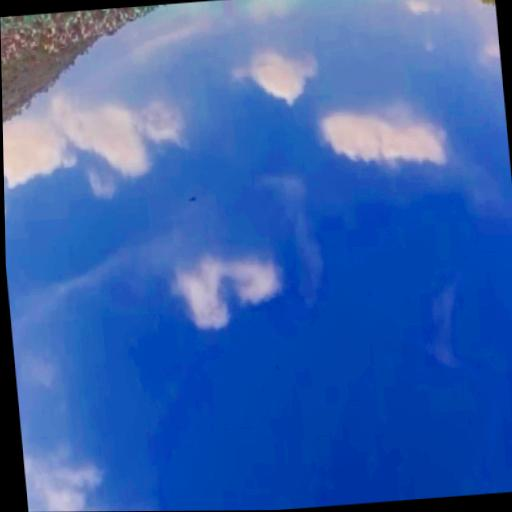drones: (183, 188, 200, 209)
